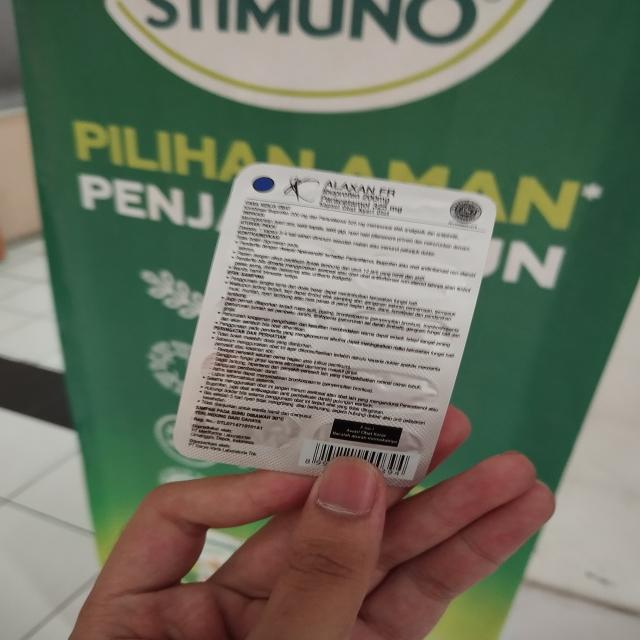B3: (172, 164, 498, 485)
